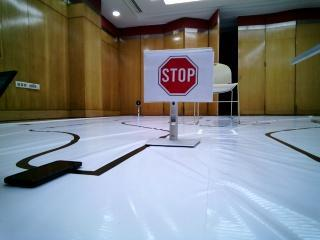stop: (142, 52, 215, 104)
